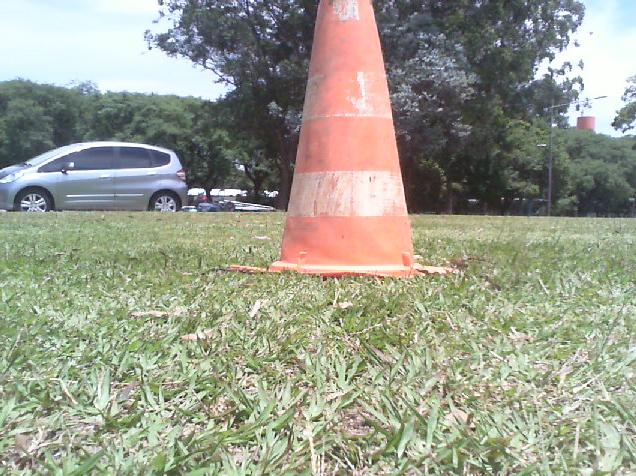0 cone: (229, 0, 454, 276)
